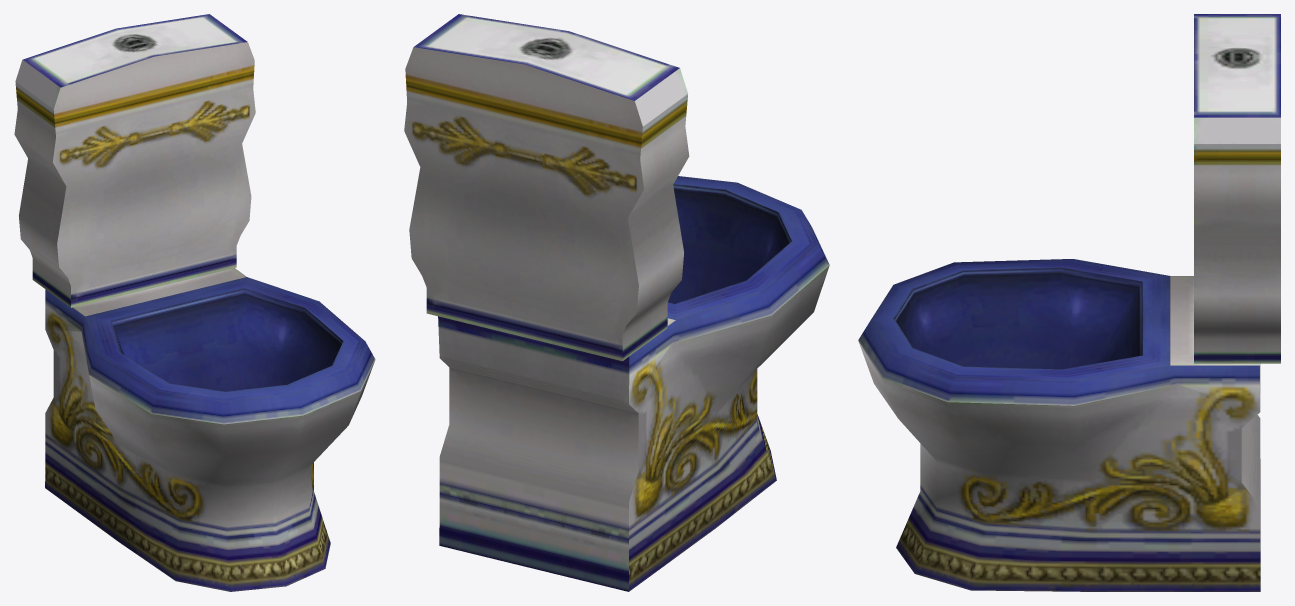
Rendered from furni_0201119.FBX.
The picture shows the model from 3 angles, left to right: view 1: azimuth 30°, elevation 25°; view 2: azimuth 150°, elevation 25°; view 3: azimuth 270°, elevation 25°; orthographic projection. The views are drawn at different scales.
Visible parts, largest first — view 1: furni_0201119; view 2: furni_0201119; view 3: furni_0201119.
Boxes of the visible parts, left/top/right/bottom form: furni_0201119: left=14, top=14, right=375, bottom=591; furni_0201119: left=404, top=14, right=829, bottom=591; furni_0201119: left=858, top=14, right=1280, bottom=591.
Bounding box in the file's own units: 57.89 × 101 × 78.84.
Materials: 1 (1 with a texture image).
